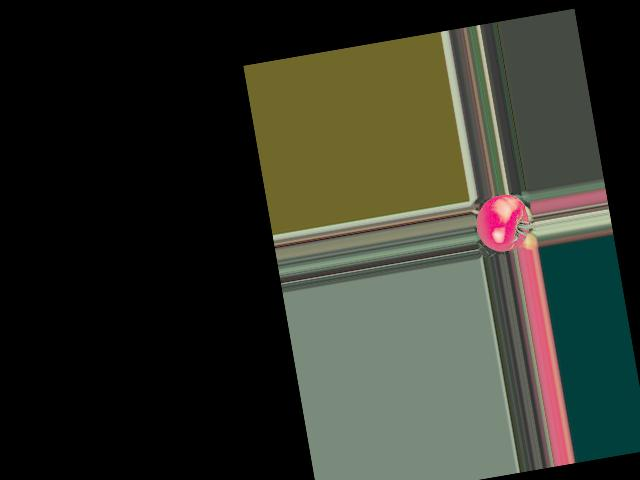tomato: (471, 191, 532, 254)
